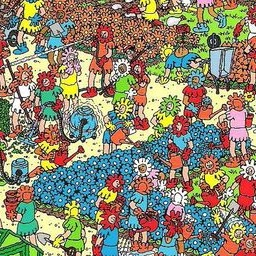waldo: (121, 44, 135, 62)
